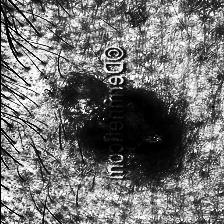Potentially Malignant Skin Tumors: (79, 100, 172, 156)
